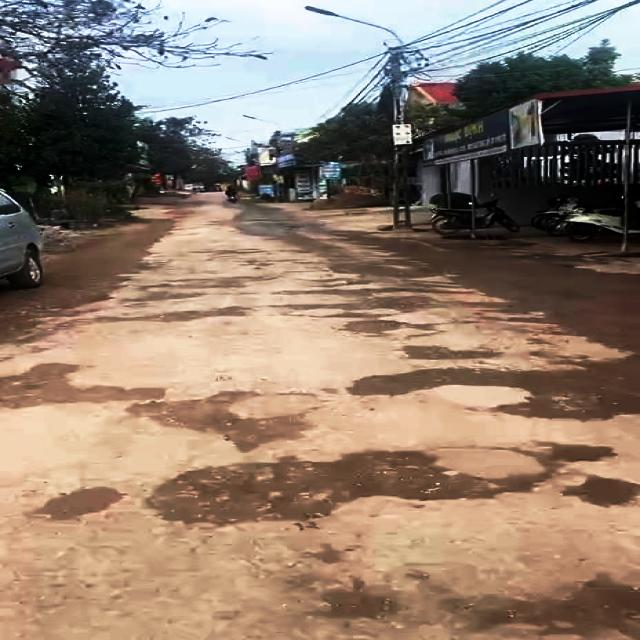pothole: (110, 442, 640, 523), (345, 353, 640, 424), (123, 389, 313, 453), (0, 360, 178, 409), (277, 290, 448, 318), (118, 274, 274, 304), (97, 302, 255, 325), (324, 261, 446, 280), (338, 316, 443, 337), (396, 344, 506, 362)
